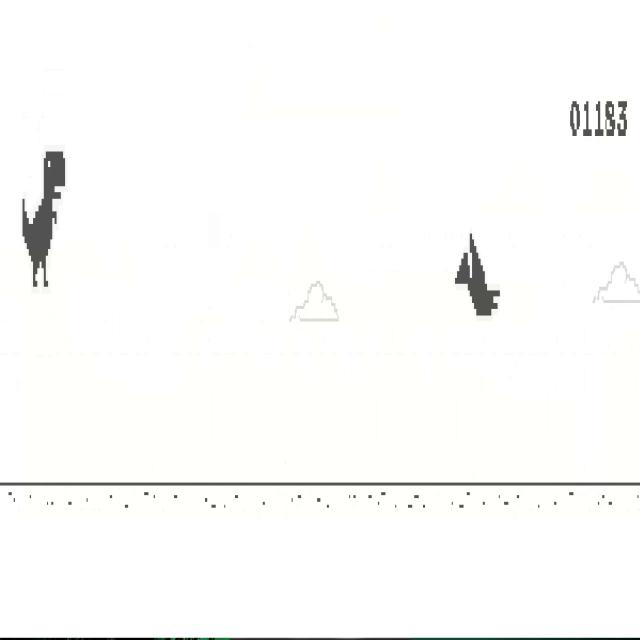dino: (23, 150, 66, 290)
ptero: (455, 232, 500, 317)
